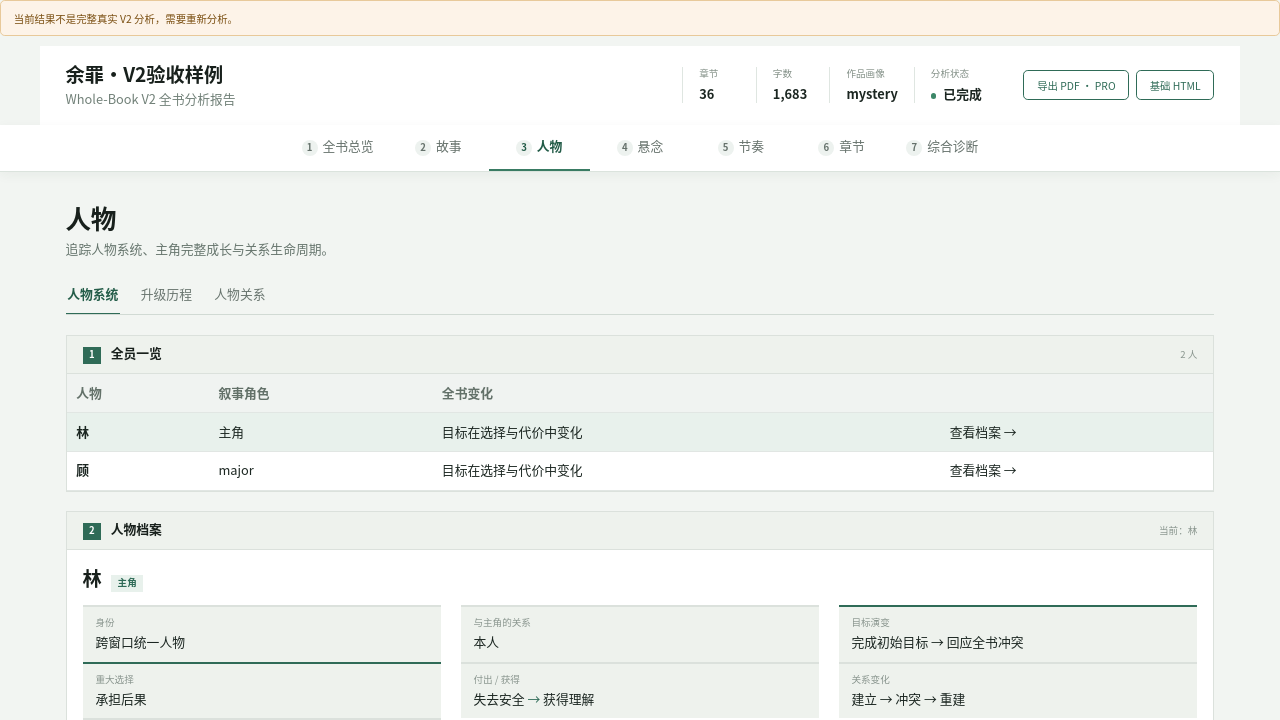
历程图本身 › 后端给的 caveat 原样显示，不由前端决定说不说
Click the button "升级历程" at (166,294), box [139,275,194,314]
(page scrolled)
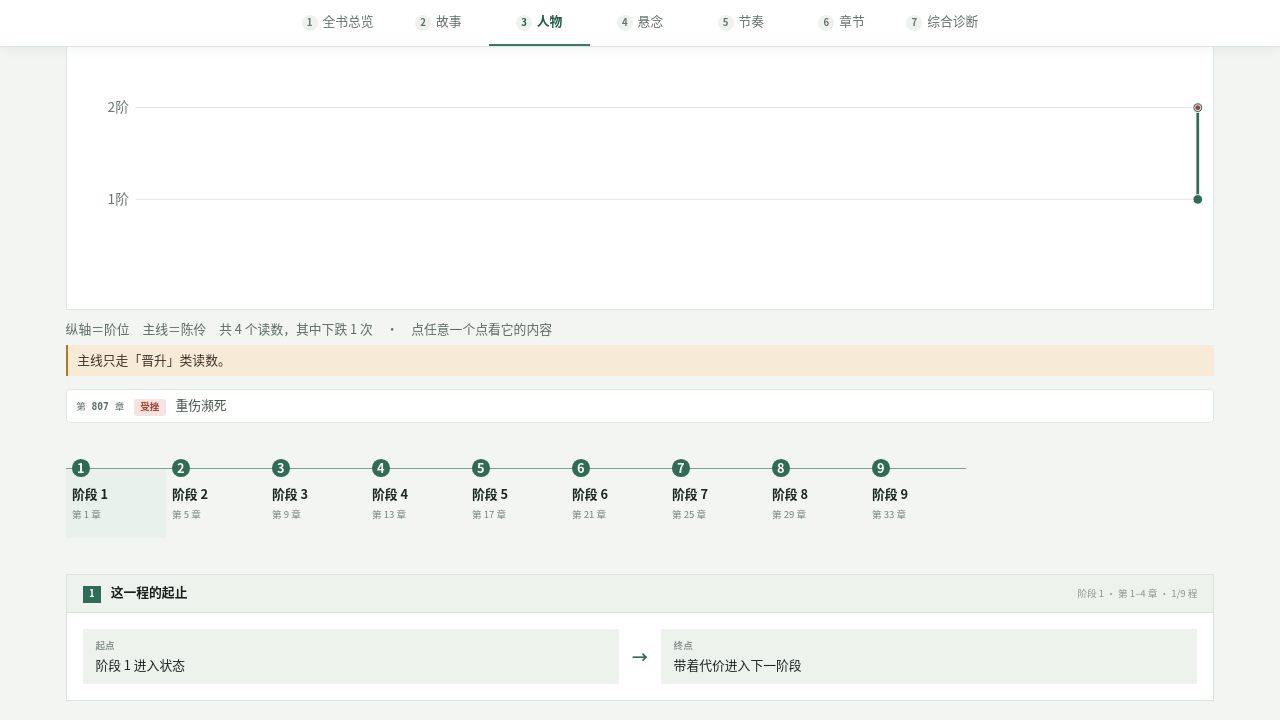
Expected: the text "主线只走「晋升」类读数。" is shown, [66,345,1214,376]
